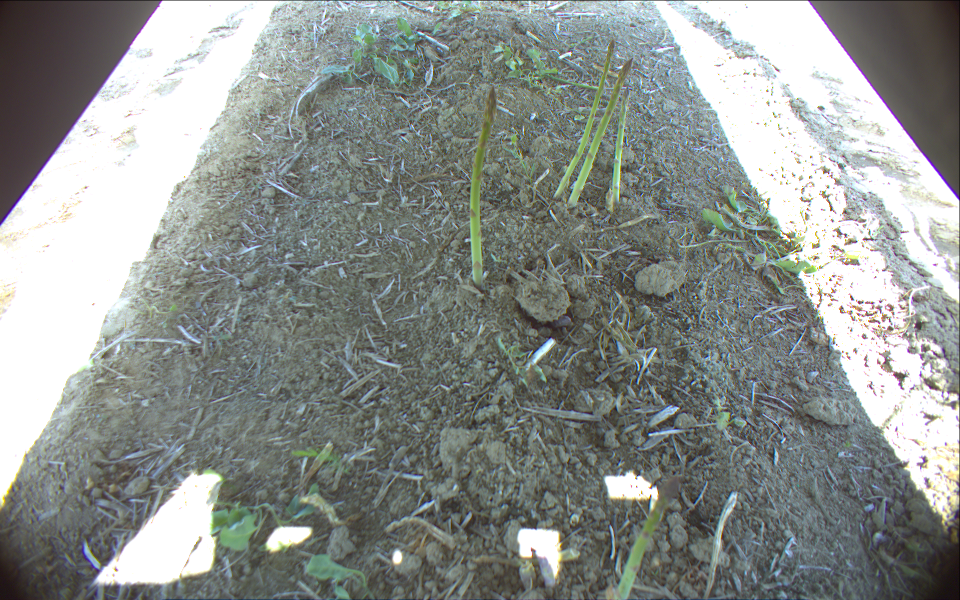aspa: (566, 58, 635, 209), (552, 37, 615, 200), (615, 476, 683, 600), (469, 87, 497, 284), (610, 86, 631, 207), (546, 72, 623, 90)
